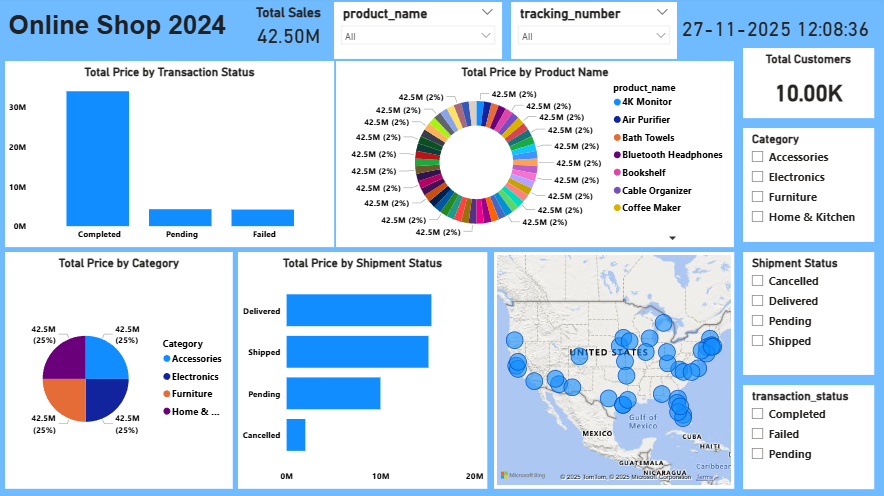

Layout of this report page (visuals, bound fields, positions):
{"tool":"powerbi","page":{"name":"Page 1","canvas":[1280,720],"ordinal":0},"visuals":[{"type":"textbox","box":[10.1,15.1,346,67.2],"z":0},{"type":"card","fields":{"Values":["customers.Today"]},"box":[977.8,14.4,283.7,59],"z":1},{"type":"card","title":"Total Sales","fields":{"Values":["Sum(orders.total_price)"]},"box":[338.4,10.1,159.8,67.7],"z":2},{"type":"slicer","fields":{"Values":["products.category"]},"box":[1072.8,188.1,188.6,164.2],"z":3},{"type":"slicer","fields":{"Values":["products.product_name"]},"box":[483.8,7.2,241.9,82.1],"z":4},{"type":"slicer","fields":{"Values":["shipments.shipment_status"]},"box":[1072.8,366.6,188.6,177.1],"z":5},{"type":"slicer","fields":{"Values":["shipments.tracking_number"]},"box":[738.7,7.2,239,82.1],"z":6},{"type":"slicer","fields":{"Values":["payment.transaction_status"]},"box":[1072.8,558.2,188.6,149.8],"z":7},{"type":"card","title":"Total Customers","fields":{"Values":["CountNonNull(customers.customer_id)"]},"box":[1072.8,73.4,188.6,100.8],"z":8},{"type":"map","fields":{"Category":["suppliers.address"],"Size":["Sum(orders.total_price)"]},"box":[714.2,367.2,345.6,341.3],"z":9},{"type":"clusteredColumnChart","title":"Total Price by Transaction Status","fields":{"Y":["Sum(orders.total_price)"],"Category":["payment.transaction_status"]},"box":[10.1,92.2,473.8,267.8],"z":10},{"type":"donutChart","title":"Total Price by Product Name","fields":{"Category":["products.product_name"],"Y":["Sum(orders.total_price)"]},"box":[486.7,92.2,573.1,267.8],"z":11},{"type":"pieChart","title":"Total Price by Category","fields":{"Category":["products.category"],"Y":["Sum(orders.total_price)"]},"box":[10.1,367.2,328.3,341.3],"z":12},{"type":"clusteredBarChart","title":"Total Price by Shipment Status","fields":{"Category":["shipments.shipment_status"],"Y":["Sum(orders.total_price)"]},"box":[345.6,367.2,358.6,341.3],"z":13}]}

Visuals, with their boxes in screenshot pixels (x1, y1, x2, y2), scaled from the page's 1280x720 canvas onto the 884x496 screenshot:
textbox: bbox=[7, 10, 246, 57]
card - customers.Today: bbox=[675, 10, 871, 51]
"Total Sales" card: bbox=[234, 7, 344, 54]
slicer - products.category: bbox=[741, 130, 871, 243]
slicer - products.product_name: bbox=[334, 5, 501, 62]
slicer - shipments.shipment_status: bbox=[741, 253, 871, 375]
slicer - shipments.tracking_number: bbox=[510, 5, 675, 62]
slicer - payment.transaction_status: bbox=[741, 385, 871, 488]
"Total Customers" card: bbox=[741, 51, 871, 120]
map - suppliers.address x Sum(orders.total_price): bbox=[493, 253, 732, 488]
"Total Price by Transaction Status" clusteredColumnChart: bbox=[7, 64, 334, 248]
"Total Price by Product Name" donutChart: bbox=[336, 64, 732, 248]
"Total Price by Category" pieChart: bbox=[7, 253, 234, 488]
"Total Price by Shipment Status" clusteredBarChart: bbox=[239, 253, 486, 488]
